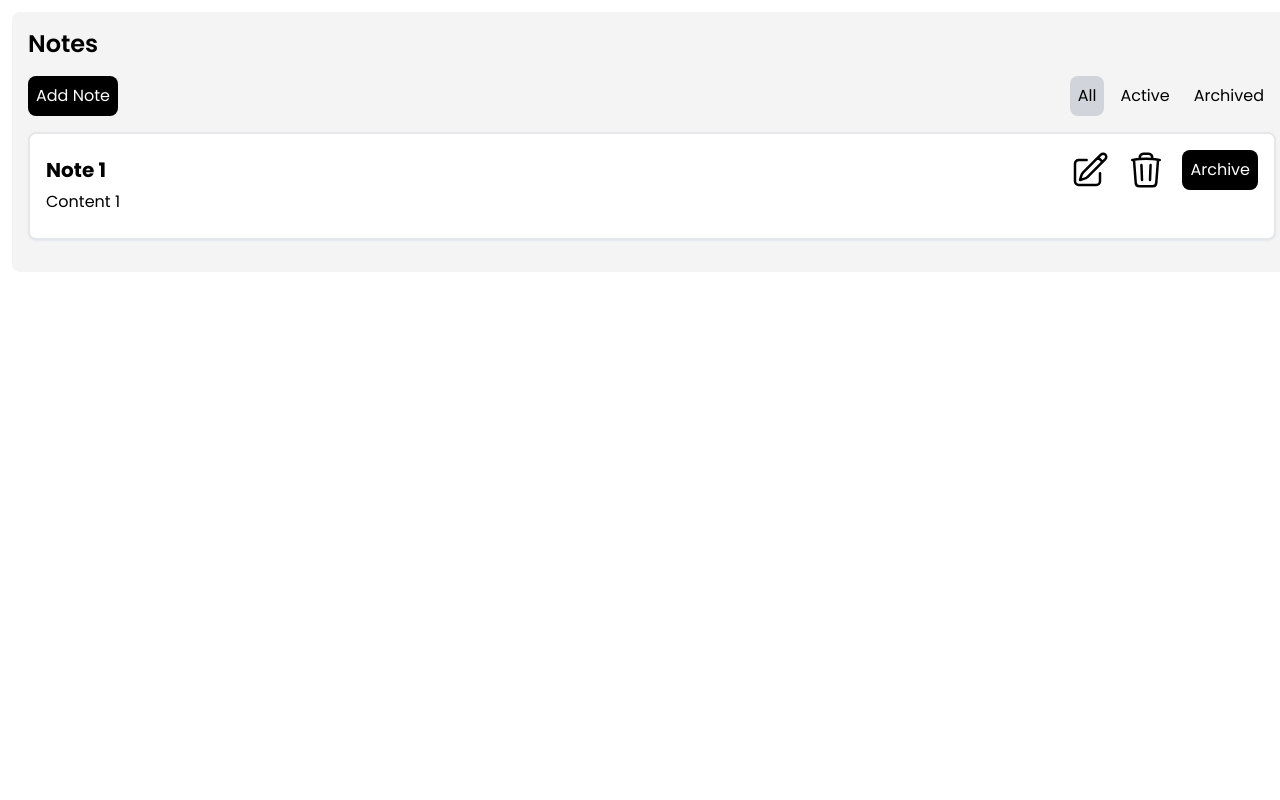
Scenario: NoteList › opens edit note modal when edit button is clicked
Click the button titled "Edit note" at (1090, 170), box [1070,150,1110,190]
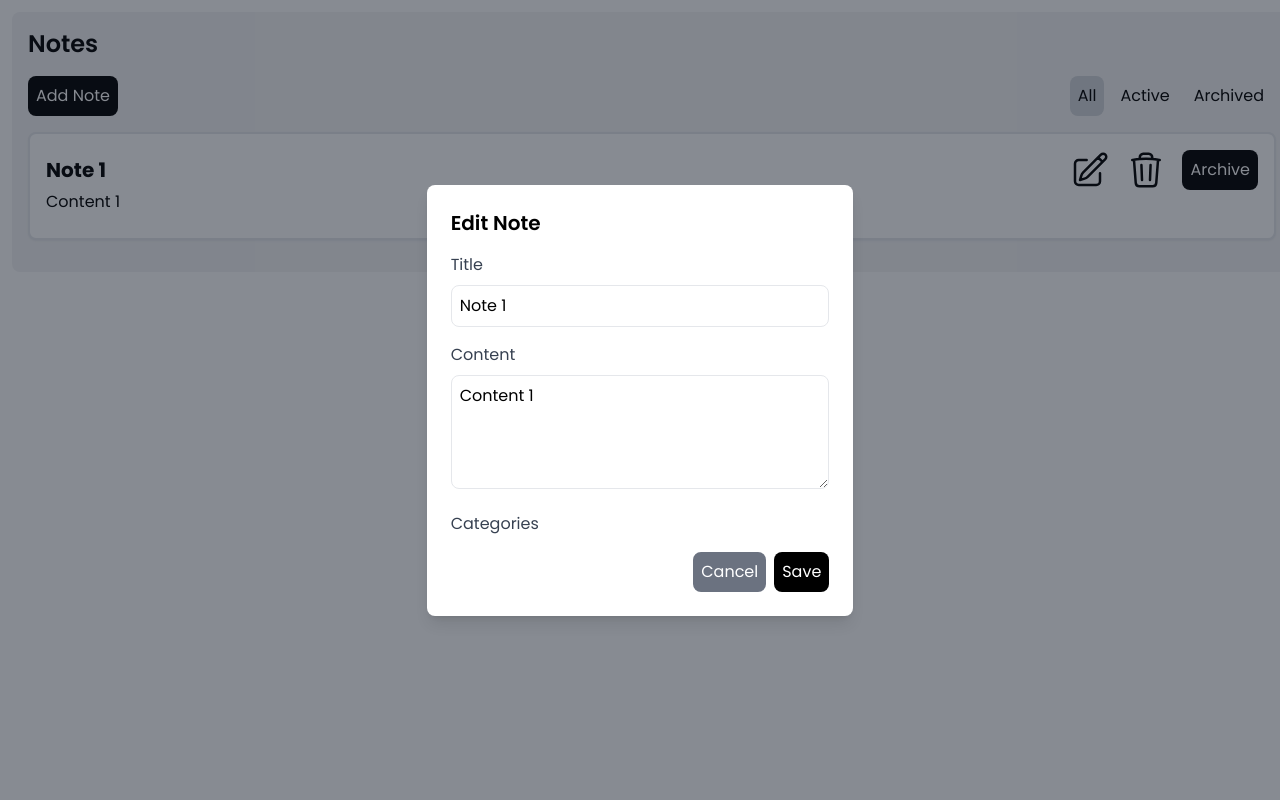
Expected: the heading "Edit Note" is shown, [451,208,540,236]
